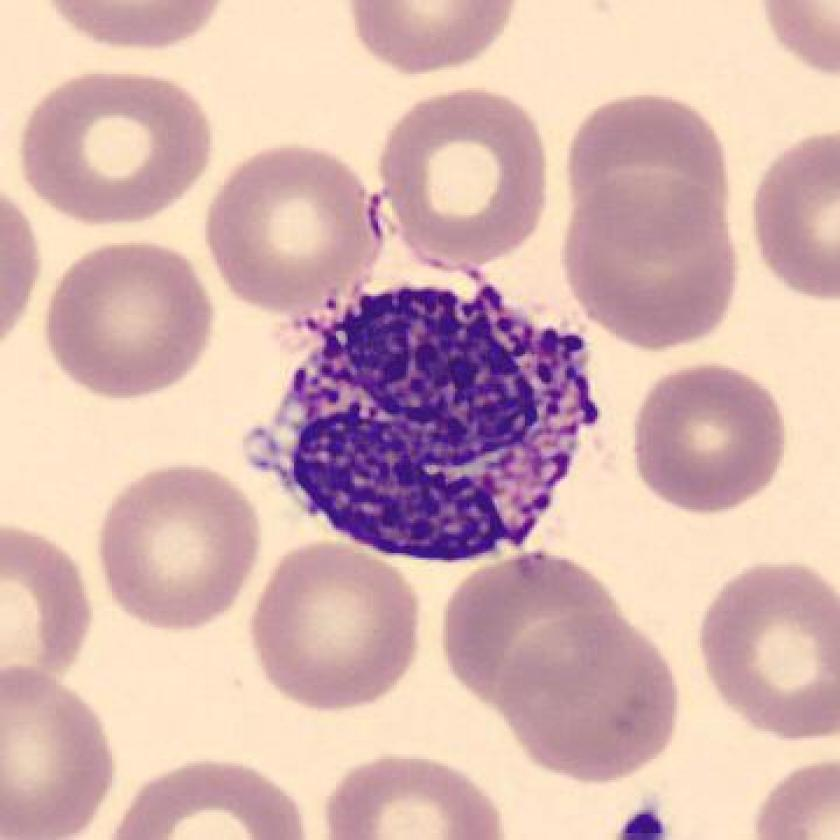basophil: (253, 267, 622, 566)
